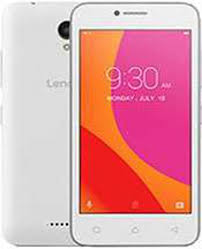lenovo: (68, 1, 202, 248)
